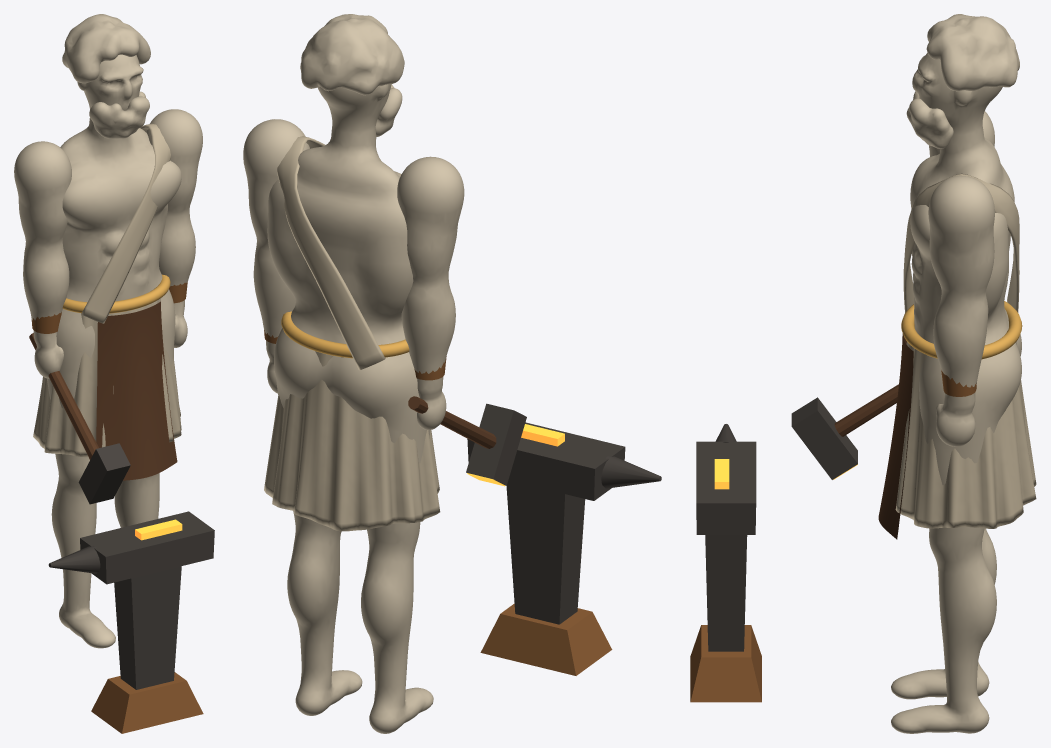
Rendered from hephaestus.glb.
The picture shows the model from 3 angles, left to right: view 1: azimuth 30°, elevation 25°; view 2: azimuth 150°, elevation 25°; view 3: azimuth 270°, elevation 25°; orthographic projection. The views are drawn at different scales.
Visible parts, largest first — view 1: Body_1@body, Apron_9@skirt~3, ArmR_4@armR, AnvilWaist_16@root, ArmL_2@armL, AnvilFace_17@root, Skirt_8@skirt~3, AnvilFoot_15@root, Strap_11@chest~3, Hair_6@Head, Tool_13@RightHand, Beard_7@Head (+5 smaller); view 2: Body_1@body, Skirt_8@skirt~3, ArmR_4@armR, AnvilWaist_16@root, ArmL_2@armL, Hair_6@Head, AnvilFoot_15@root, Strap_11@chest~3, AnvilFace_17@root, Tool_13@RightHand, Belt_10@Hips, AnvilHorn_18@root (+2 smaller); view 3: Body_1@body, ArmL_2@armL, Skirt_8@skirt~3, Hair_6@Head, AnvilFace_17@root, AnvilWaist_16@root, AnvilFoot_15@root, Apron_9@skirt~3, Tool_13@RightHand, Strap_11@chest~3, Belt_10@Hips, Beard_7@Head (+1 smaller).
Part boxes in pixels (x1=…): Body_1@body: x1=46, y1=54, x2=181, y2=648; Apron_9@skirt~3: x1=96, y1=301, x2=177, y2=480; ArmR_4@armR: x1=14, y1=141, x2=71, y2=378; AnvilWaist_16@root: x1=114, y1=566, x2=181, y2=689; ArmL_2@armL: x1=146, y1=109, x2=202, y2=347; AnvilFace_17@root: x1=80, y1=511, x2=214, y2=584; Skirt_8@skirt~3: x1=33, y1=298, x2=181, y2=457; AnvilFoot_15@root: x1=91, y1=672, x2=203, y2=733; Strap_11@chest~3: x1=81, y1=123, x2=170, y2=323; Hair_6@Head: x1=62, y1=14, x2=150, y2=83; Tool_13@RightHand: x1=78, y1=443, x2=130, y2=504; Beard_7@Head: x1=89, y1=91, x2=149, y2=138; Body_1@body: x1=267, y1=84, x2=433, y2=733; Skirt_8@skirt~3: x1=264, y1=351, x2=440, y2=531; ArmR_4@armR: x1=397, y1=156, x2=464, y2=430; AnvilWaist_16@root: x1=506, y1=480, x2=585, y2=624; ArmL_2@armL: x1=243, y1=119, x2=309, y2=393; Hair_6@Head: x1=300, y1=14, x2=404, y2=95; AnvilFoot_15@root: x1=480, y1=603, x2=612, y2=675; Strap_11@chest~3: x1=277, y1=136, x2=385, y2=370; AnvilFace_17@root: x1=467, y1=422, x2=625, y2=500; Tool_13@RightHand: x1=466, y1=403, x2=526, y2=485; Belt_10@Hips: x1=281, y1=311, x2=409, y2=358; AnvilHorn_18@root: x1=601, y1=456, x2=661, y2=488; Body_1@body: x1=891, y1=53, x2=1021, y2=733; ArmL_2@armL: x1=928, y1=175, x2=994, y2=446; Skirt_8@skirt~3: x1=895, y1=342, x2=1036, y2=528; Hair_6@Head: x1=926, y1=14, x2=1019, y2=91; AnvilFace_17@root: x1=696, y1=441, x2=756, y2=534; AnvilWaist_16@root: x1=705, y1=535, x2=747, y2=651; AnvilFoot_15@root: x1=690, y1=625, x2=761, y2=702; Apron_9@skirt~3: x1=878, y1=333, x2=913, y2=539; Tool_13@RightHand: x1=791, y1=397, x2=857, y2=479; Strap_11@chest~3: x1=903, y1=173, x2=1019, y2=312; Belt_10@Hips: x1=901, y1=301, x2=1022, y2=359; Beard_7@Head: x1=906, y1=91, x2=953, y2=148.
Size of the model in its own units: 0.7991 by 1.83 by 0.8228.
